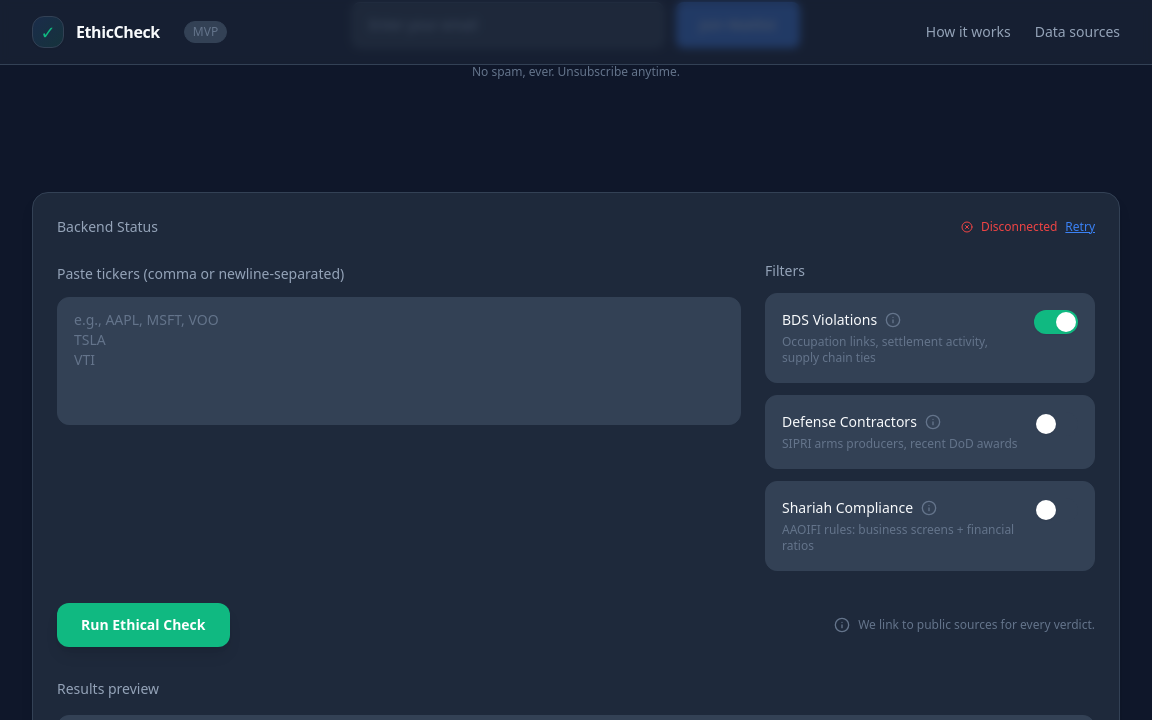
Test case: Error Scenarios and Edge Cases › Network and API Errors › handles complete backend failure
(page scrolled)
Expected: the text "Disconnected" is shown, [961,219,1057,235]
Type "AAPL" into the text box with placeholder "e.g., AAPL, MSFT, VOO TSLA VTI" at (399, 361), box [57,297,741,425]
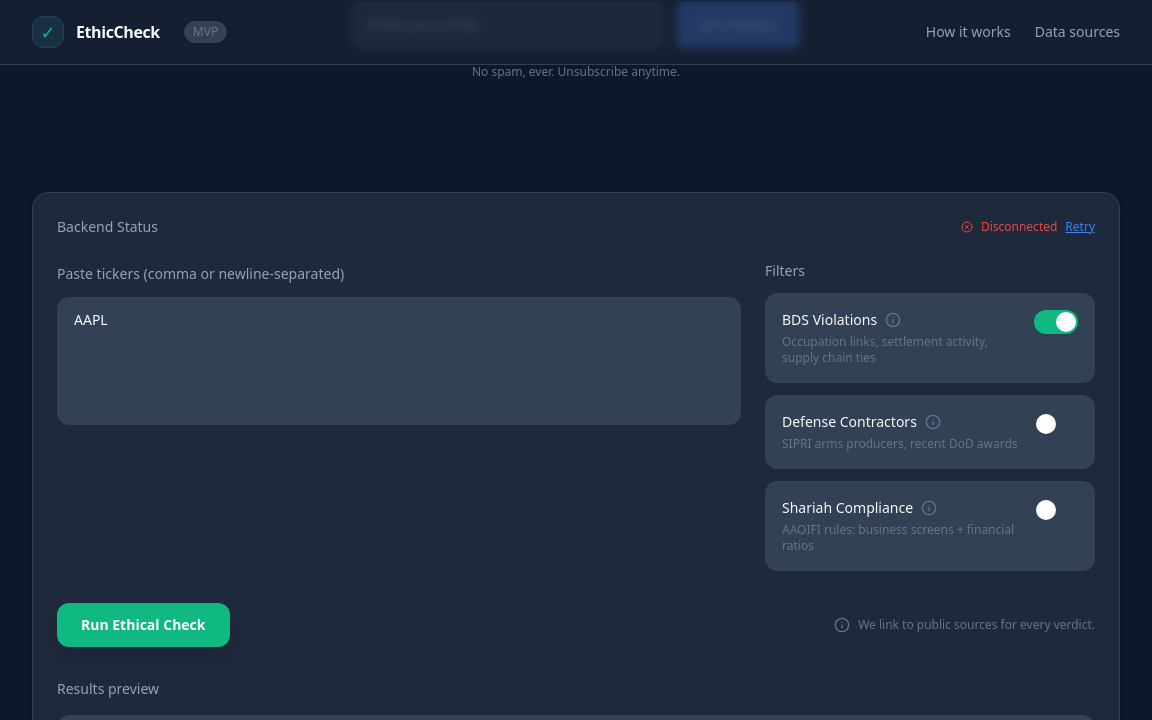
Click the button "Run Ethical Check" at (143, 625), box [57,603,230,647]
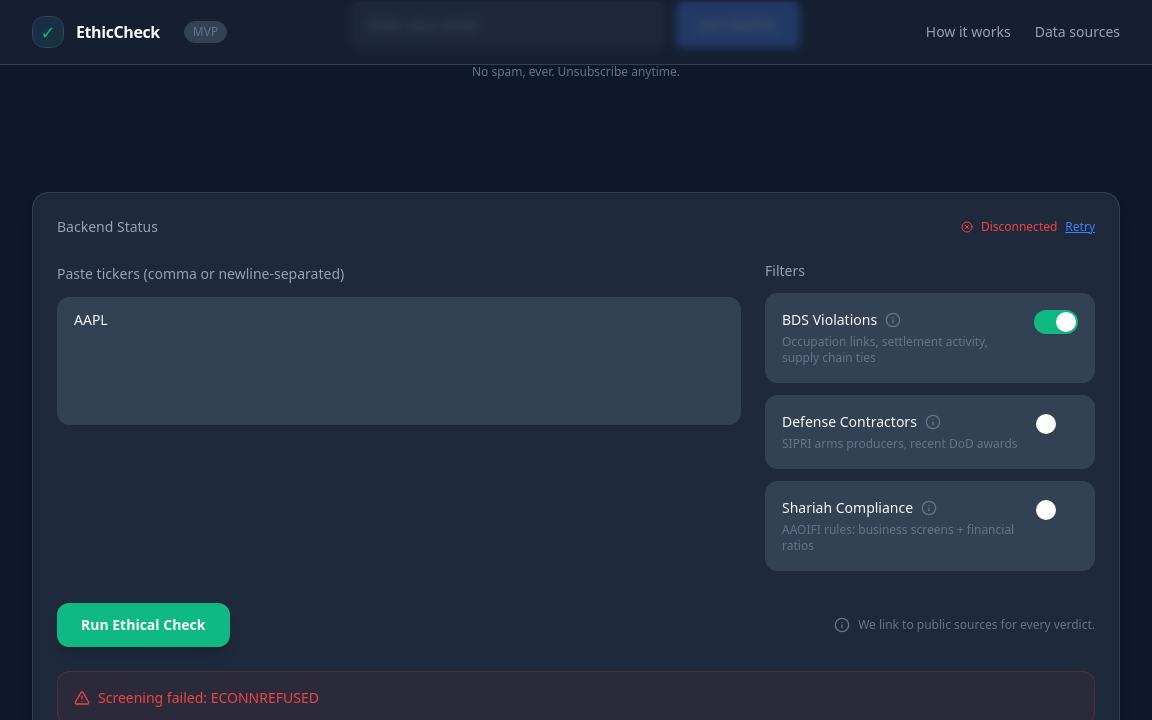
Expected: the text "Screening failed: ECONNREFUSED" is shown, [74,688,319,707]
